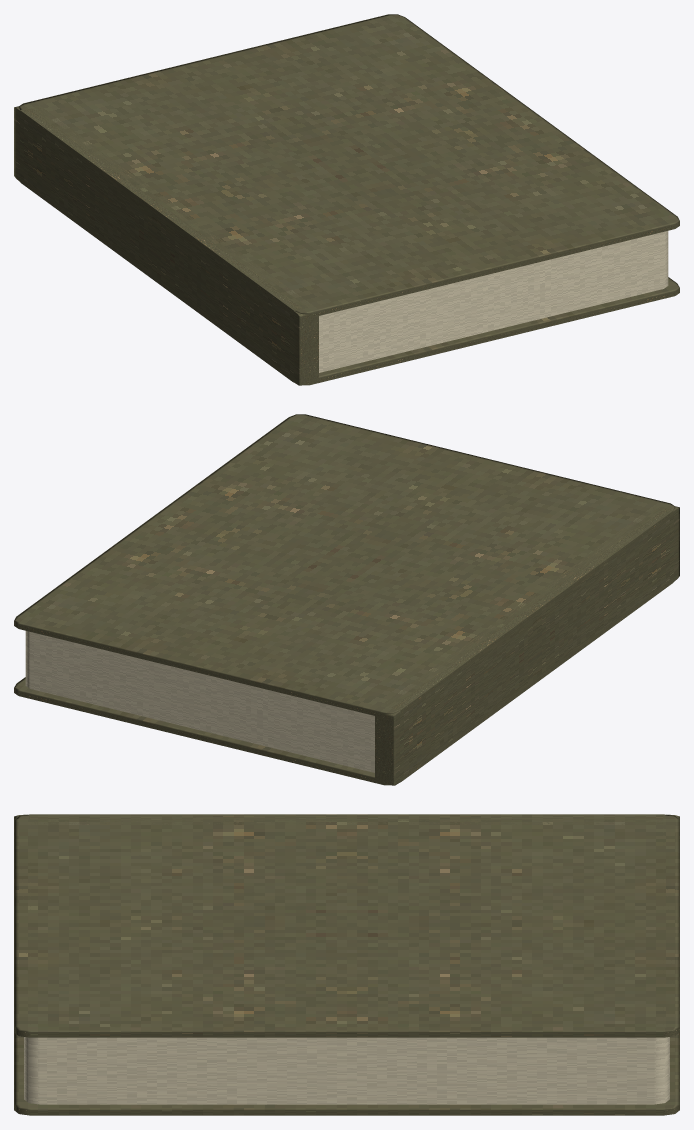
File: binder.glb
3 views of the same model, one above another, from view 1: azimuth 30°, elevation 25°; view 2: azimuth 150°, elevation 25°; view 3: azimuth 270°, elevation 25° (orthographic). The views are drawn at different scales.
Parts seen in each view (by area): view 1: cover (×2), spine, pages; view 2: cover (×2), spine, pages; view 3: cover (×2), pages, spine.
Part boxes in pixels (bbox=[...]): cover (×2): bbox=[18, 14, 679, 385]; spine: bbox=[14, 106, 318, 385]; pages: bbox=[319, 231, 668, 372]; cover (×2): bbox=[14, 414, 675, 785]; spine: bbox=[375, 506, 679, 785]; pages: bbox=[25, 631, 374, 772]; cover (×2): bbox=[14, 814, 679, 1115]; pages: bbox=[24, 1037, 669, 1104]; spine: bbox=[14, 814, 679, 824].
Bounding box in the file's own units: 0.24 × 0.043 × 0.31.
Materials: 2 (2 with a texture image).
